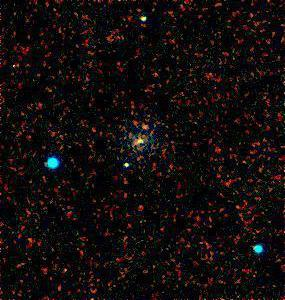star: (134, 108, 164, 138)
